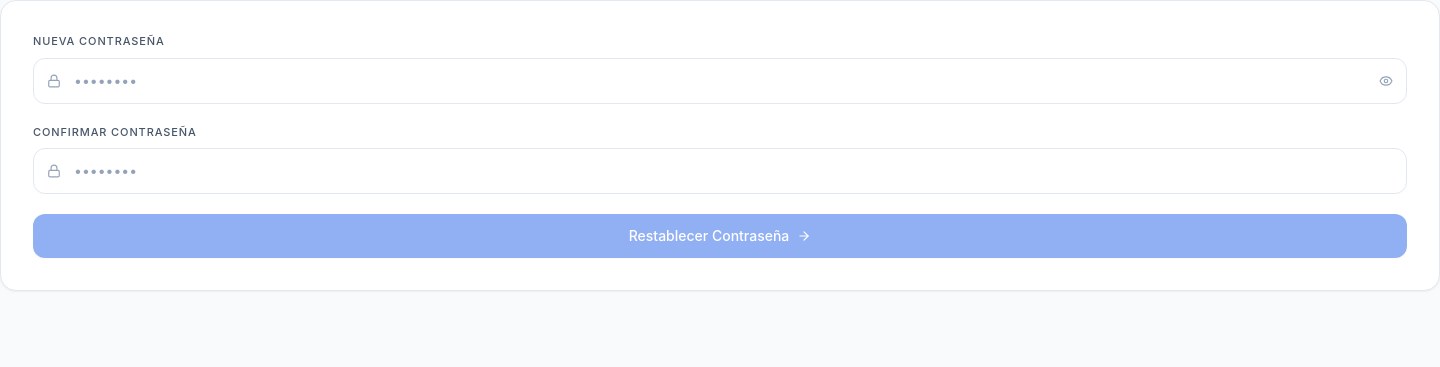
Test: ResetPassword › should show error when password is too short
Step 1. Type "123" into the password field with placeholder "••••••••" → {"x": 720, "y": 80}, box [33,58,1407,104]
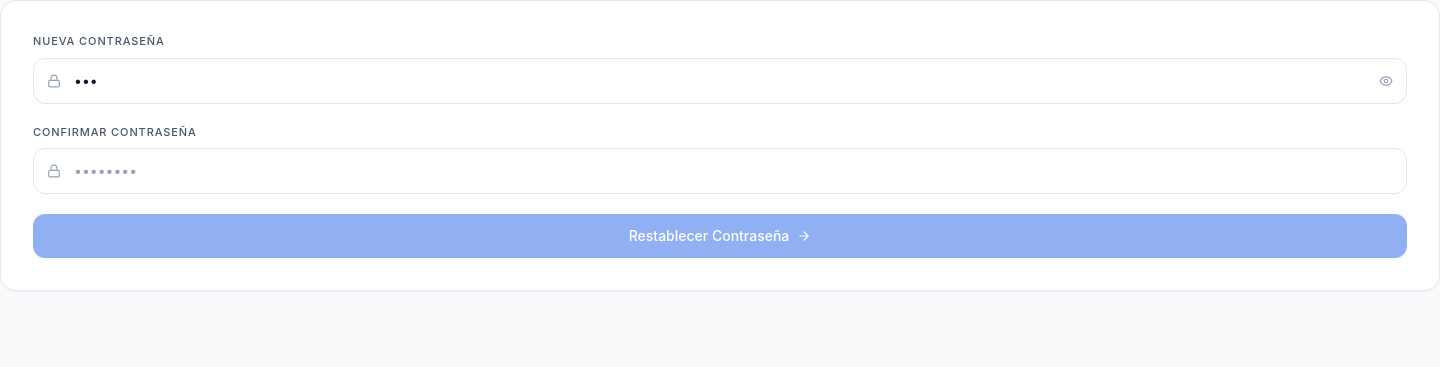
Step 2. Type "123" into the password field with placeholder "••••••••" → {"x": 720, "y": 171}, box [33,148,1407,194]
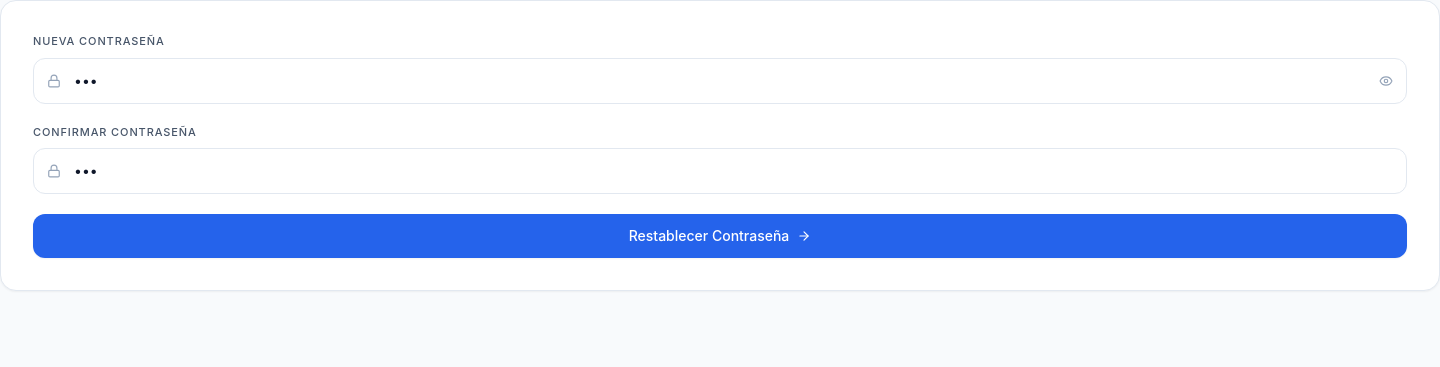
Step 3. Click the button "Restablecer Contraseña" → {"x": 720, "y": 236}, box [33,214,1407,258]
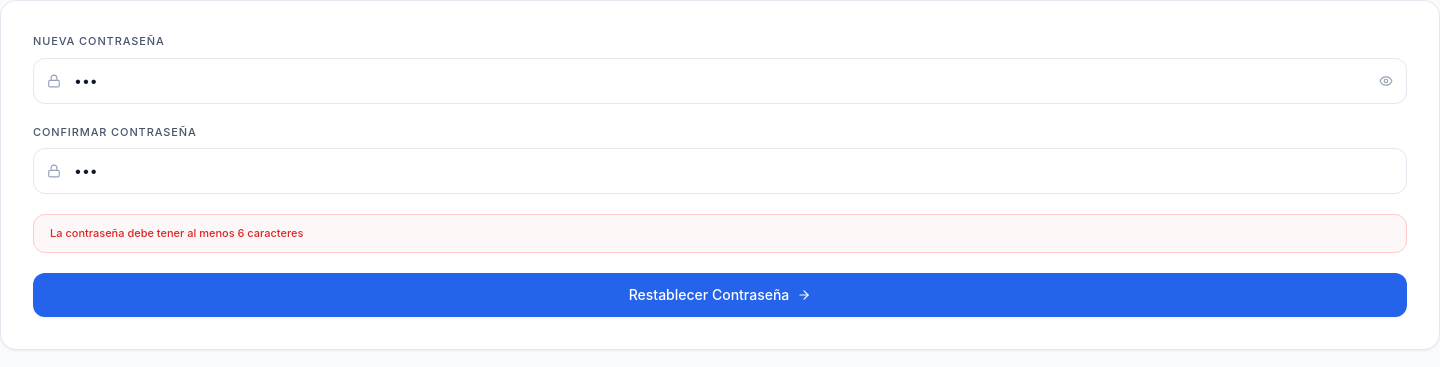
Expected: the text "La contraseña debe tener al menos 6 caracteres" is shown, [33,214,1407,252]
